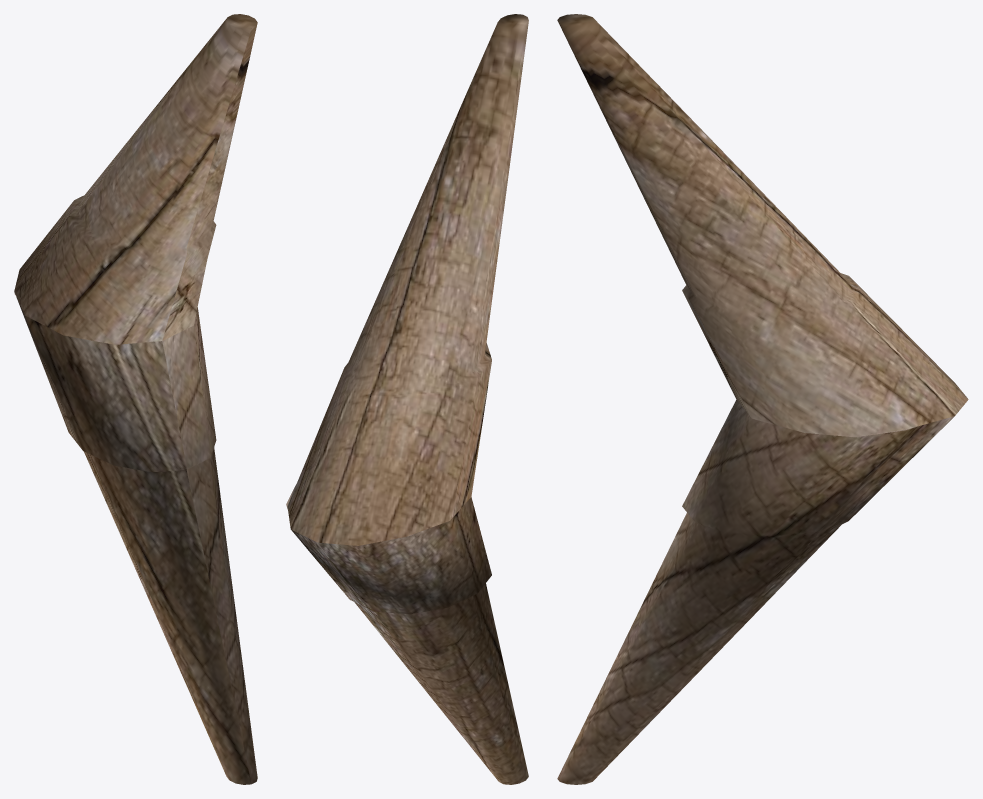
Rendered from projectile-boomerang.fbx.
3 renders of one model, left to right at view 1: azimuth 30°, elevation 25°; view 2: azimuth 150°, elevation 25°; view 3: azimuth 270°, elevation 25°, orthographic.
Visible parts, largest first — view 1: projectile-boomerang; view 2: projectile-boomerang; view 3: projectile-boomerang.
Part boxes in pixels (x1,y1,x2,y2): projectile-boomerang: [14, 14, 257, 784]; projectile-boomerang: [286, 14, 528, 784]; projectile-boomerang: [557, 14, 968, 784].
Size of the model in its own units: 15.01 by 70.43 by 34.61.
